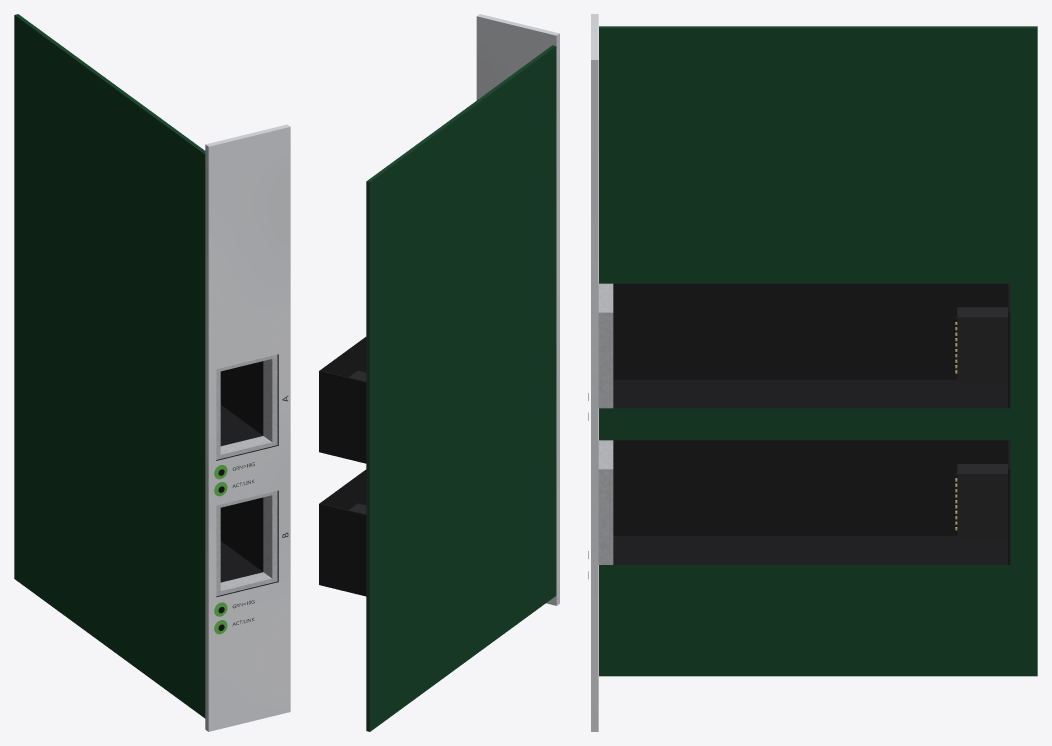
The picture shows the model from 3 angles, left to right: view 1: azimuth 30°, elevation 25°; view 2: azimuth 150°, elevation 25°; view 3: azimuth 270°, elevation 25°; orthographic projection. The views are drawn at different scales.
Visible parts, largest first — view 1: Card; view 2: Card; view 3: Card.
Part boxes in pixels (x1,y1,x2,y2): Card: (14,14,290,731); Card: (319,14,559,731); Card: (591,14,1037,731).
Bounding box in the file's own units: 0.0146 × 0.0996 × 0.0604.
9 materials, 2 textured.
